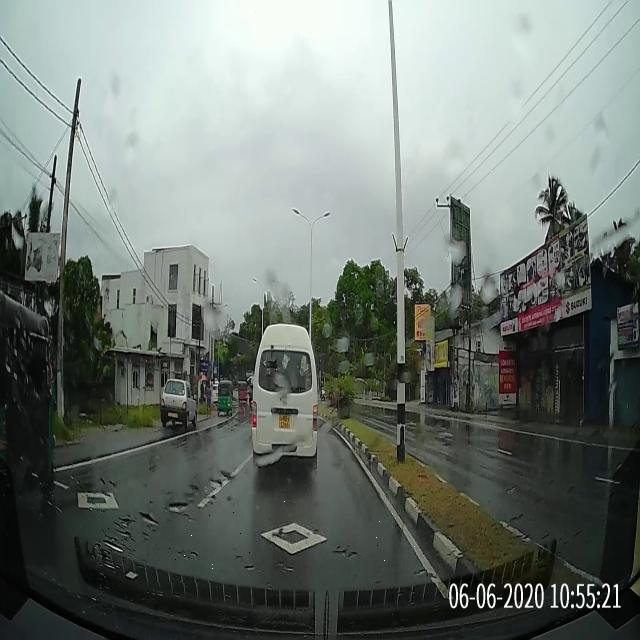diamond: (150, 496, 448, 583)
